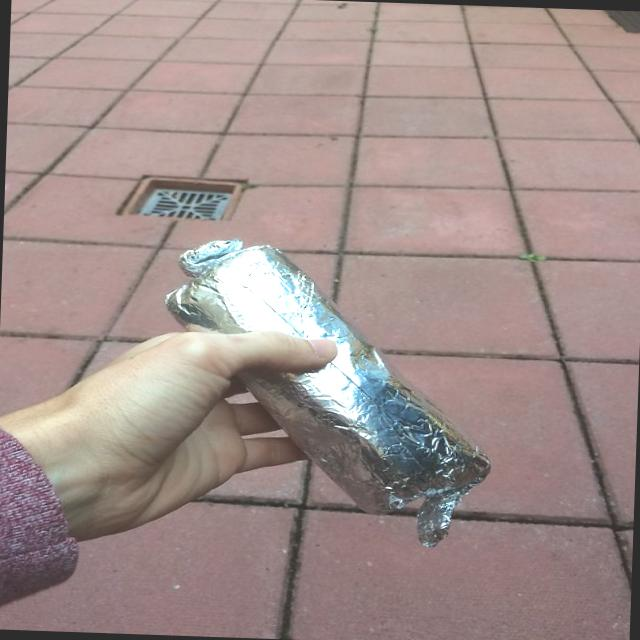Trash: (163, 235, 501, 552)
